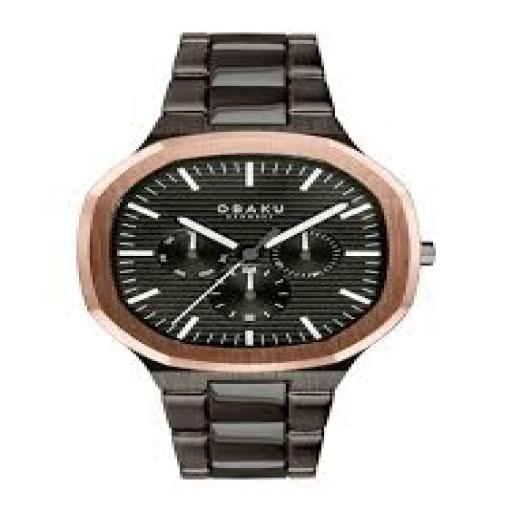KolSaati: (42, 21, 460, 490)
